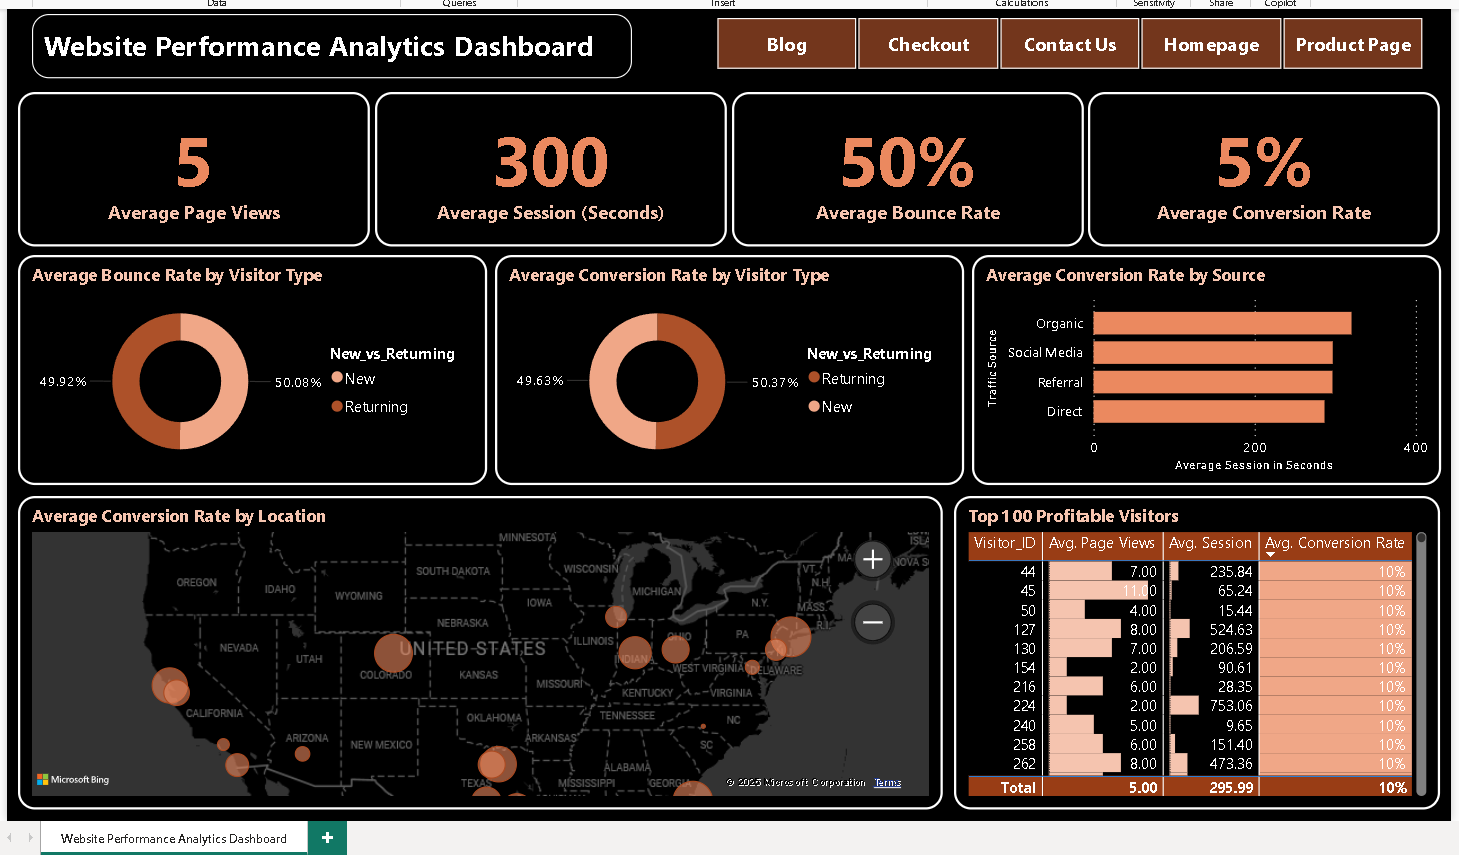

Layout of this report page (visuals, bound fields, positions):
{"tool":"powerbi","page":{"name":"Website Performance Analytics Dashboard","canvas":[1280,720],"ordinal":0},"visuals":[{"type":"textbox","box":[22.2,4,532.2,57.4],"z":1000},{"type":"donutChart","title":"Average Bounce Rate by Visitor Type","fields":{"Category":["website_performance_analytics.New_vs_Returning"],"Y":["Avg(website_performance_analytics.Bounce_Rate)"]},"box":[10,217.8,415.6,204.4],"z":2000},{"type":"card","title":"Total ","fields":{"Values":["Avg(website_performance_analytics.Page_Views)"]},"box":[10,73.3,312.2,136.7],"z":3000},{"type":"card","title":"Total ","fields":{"Values":["Avg(website_performance_analytics.Average_Session_Duration)"]},"box":[326.3,73.3,312.2,136.7],"z":4000},{"type":"card","title":"Total ","fields":{"Values":["Avg(website_performance_analytics.Bounce_Rate)"]},"box":[642.6,73.3,312.2,136.7],"z":5000},{"type":"card","title":"Total ","fields":{"Values":["Avg(website_performance_analytics.Conversion_Rate)"]},"box":[958.9,73.3,312.2,136.7],"z":6000},{"type":"donutChart","title":"Average Conversion Rate by Visitor Type","fields":{"Category":["website_performance_analytics.New_vs_Returning"],"Y":["Avg(website_performance_analytics.Conversion_Rate)"]},"box":[432.8,217.8,415.6,204.4],"z":7000},{"type":"clusteredBarChart","title":"Average Conversion Rate by Source","fields":{"Y":["Avg(website_performance_analytics.Average_Session_Duration)"],"Category":["website_performance_analytics.Traffic_Source"]},"box":[855.6,217.8,415.6,204.4],"z":8000},{"type":"map","title":"Average Conversion Rate by Location","fields":{"Category":["website_performance_analytics.Location"],"Size":["Avg(website_performance_analytics.Conversion_Rate)"]},"box":[10,432.2,820,277.8],"z":9000},{"type":"tableEx","title":"Top 100 Profitable Visitors","fields":{"Values":["website_performance_analytics.Visitor_ID","Avg(website_performance_analytics.Page_Views)","Avg(website_performance_analytics.Session_Duration)","Avg(website_performance_analytics.Conversion_Rate)"]},"box":[840,432.2,431.1,277.8],"z":10000},{"type":"slicer","title":"Filter by Visitors'' Exit Page","fields":{"Values":["website_performance_analytics.Exit_Pages"]},"box":[603,0,677.4,61.2],"z":11000}]}

Visuals, with their boxes in screenshot pixels (x1, y1, x2, y2):
textbox: (left=33, top=8, right=631, bottom=73)
"Average Bounce Rate by Visitor Type" donutChart: (left=19, top=249, right=486, bottom=478)
"Total " card: (left=19, top=86, right=370, bottom=240)
"Total " card: (left=374, top=86, right=725, bottom=240)
"Total " card: (left=730, top=86, right=1081, bottom=240)
"Total " card: (left=1085, top=86, right=1436, bottom=240)
"Average Conversion Rate by Visitor Type" donutChart: (left=494, top=249, right=961, bottom=478)
"Average Conversion Rate by Source" clusteredBarChart: (left=969, top=249, right=1437, bottom=478)
"Average Conversion Rate by Location" map: (left=19, top=490, right=941, bottom=802)
"Top 100 Profitable Visitors" tableEx: (left=952, top=490, right=1436, bottom=802)
"Filter by Visitors'' Exit Page" slicer: (left=685, top=4, right=1447, bottom=73)
